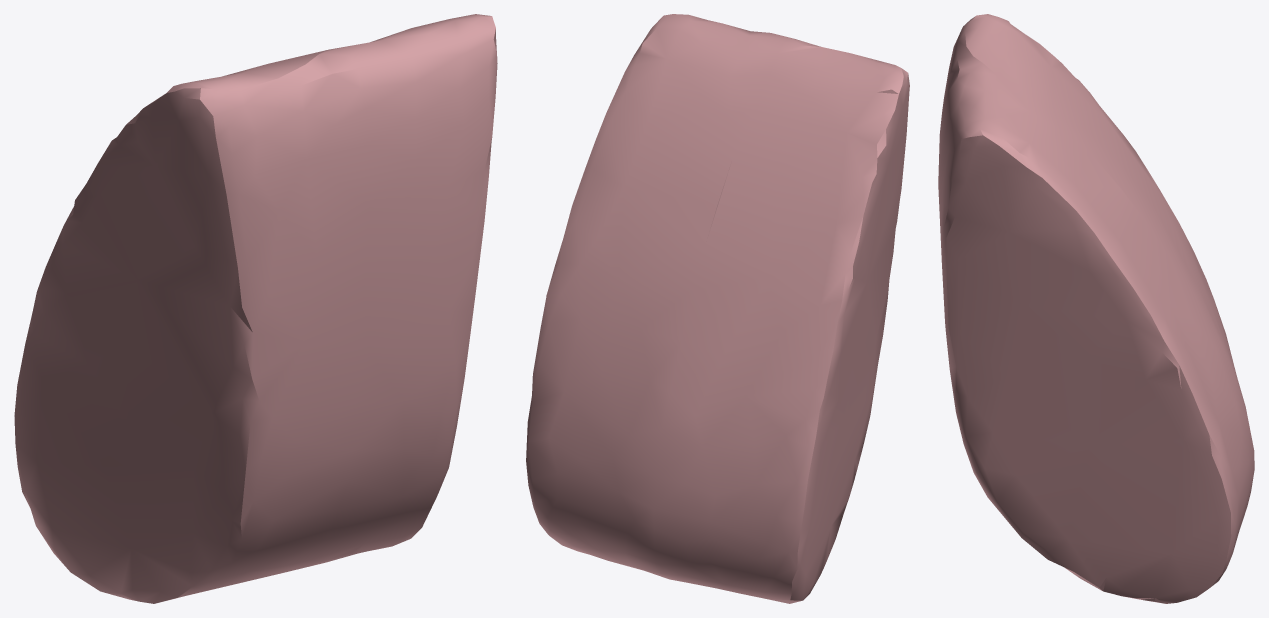
File: fma72418_mm3603.glb
3 views of the same model, side by side, from view 1: azimuth 30°, elevation 25°; view 2: azimuth 150°, elevation 25°; view 3: azimuth 270°, elevation 25° (orthographic). The views are drawn at different scales.
Parts seen in each view (by area): view 1: FMA72418_MM3603; view 2: FMA72418_MM3603; view 3: FMA72418_MM3603.
Part boxes in pixels (<box>): FMA72418_MM3603: <box>14,14,497,603</box>; FMA72418_MM3603: <box>526,14,909,603</box>; FMA72418_MM3603: <box>938,14,1254,603</box>.
Size of the model in its own units: 0.00249 by 0.0039 by 0.00233.
